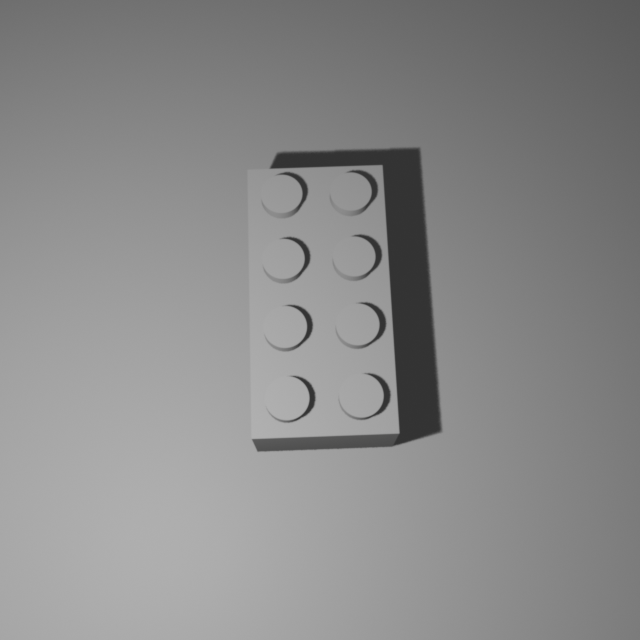lego_2x4: (246, 159, 401, 452)
